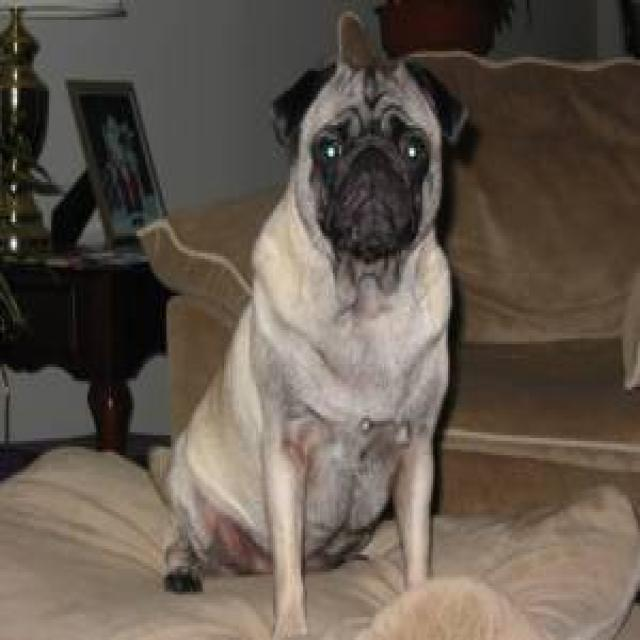dog-pug: (154, 48, 478, 634)
